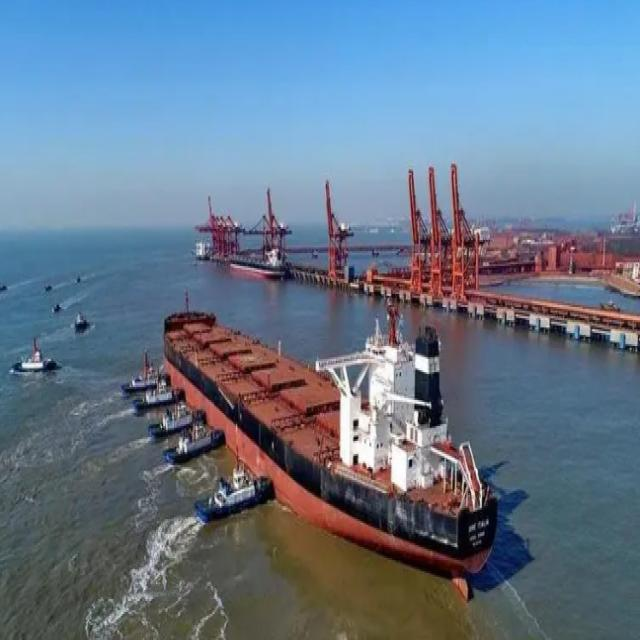cargoship: (158, 266, 511, 568)
fishing boat: (192, 451, 277, 524), (162, 402, 222, 465), (9, 327, 54, 382), (152, 391, 192, 438), (130, 371, 178, 407), (122, 354, 160, 388)
